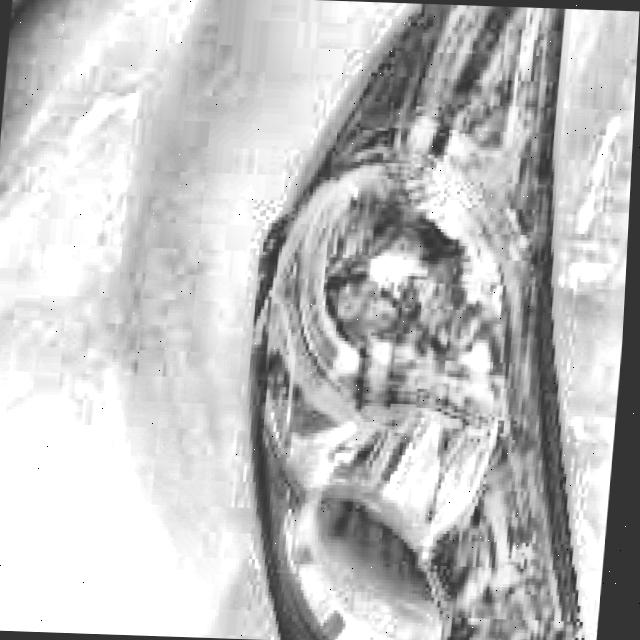tail_lamp: (269, 189, 519, 640)
